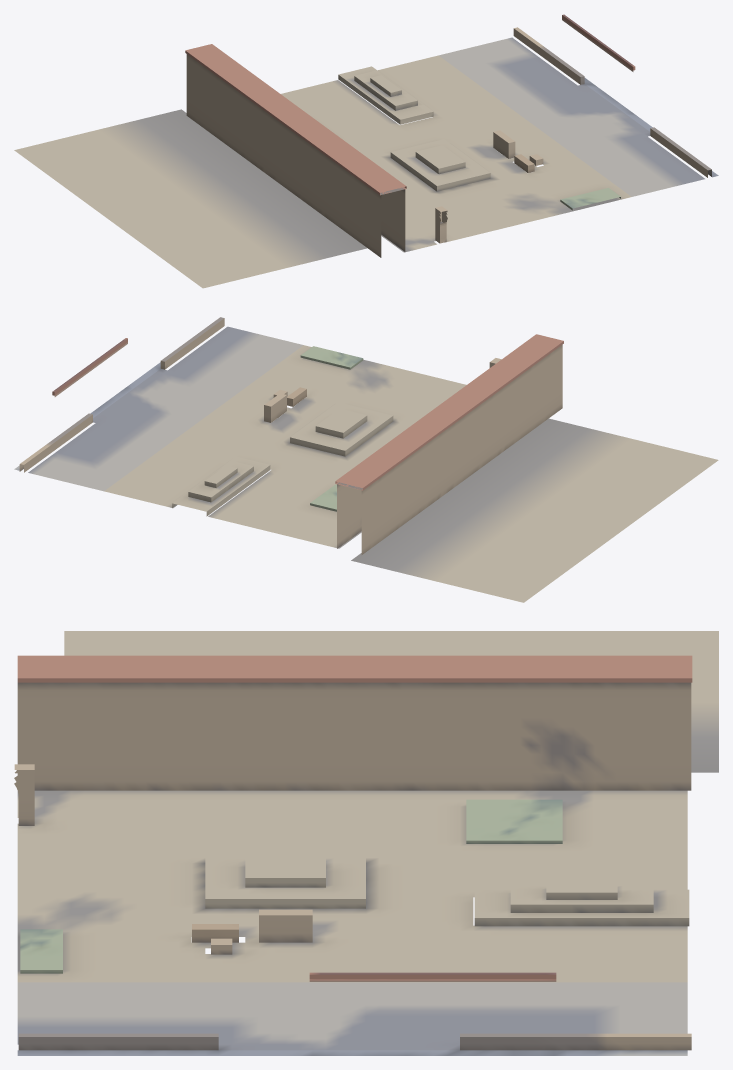
The picture shows the model from 3 angles, top to bottom: view 1: azimuth 30°, elevation 25°; view 2: azimuth 150°, elevation 25°; view 3: azimuth 270°, elevation 25°; orthographic projection. The views are drawn at different scales.
Visible parts, largest first — view 1: t; view 2: t; view 3: t.
Boxes of the visible parts, <box> form: t: <box>14,14,718,288</box>; t: <box>14,317,718,602</box>; t: <box>14,631,718,1055</box>.
Bounding box in the file's own units: 75.1 × 9.35 × 52.59.
